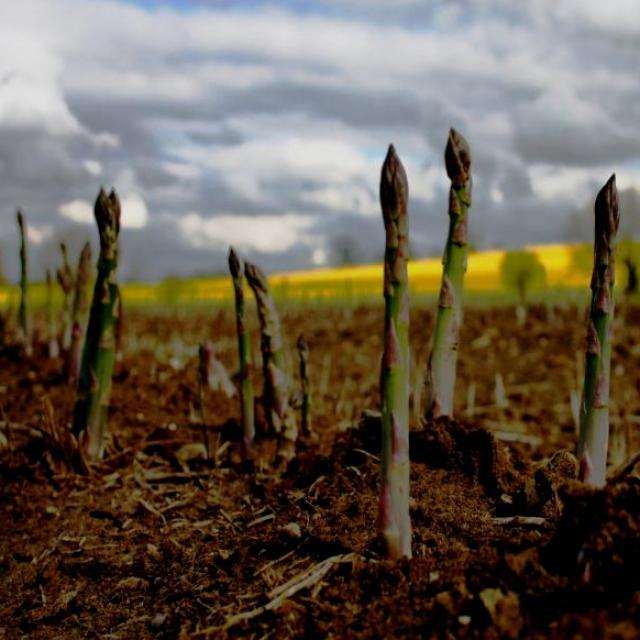aspargus: (378, 145, 412, 562), (579, 176, 619, 489), (432, 129, 472, 416)
